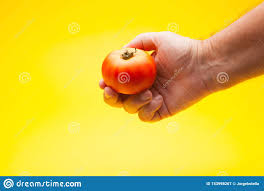tomato: (102, 48, 156, 94)
